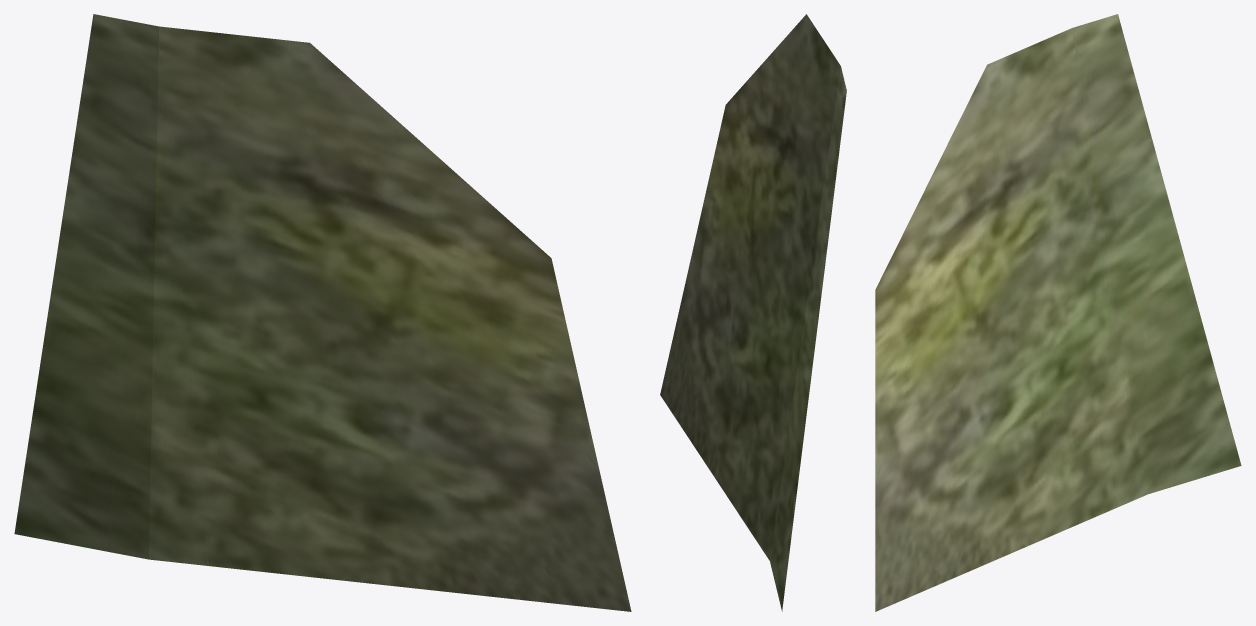
The picture shows the model from 3 angles, left to right: view 1: azimuth 30°, elevation 25°; view 2: azimuth 150°, elevation 25°; view 3: azimuth 270°, elevation 25°; orthographic projection. The views are drawn at different scales.
Size of the model in its own units: 2.05 by 2.95 by 2.17.
2 materials, 2 textured.
